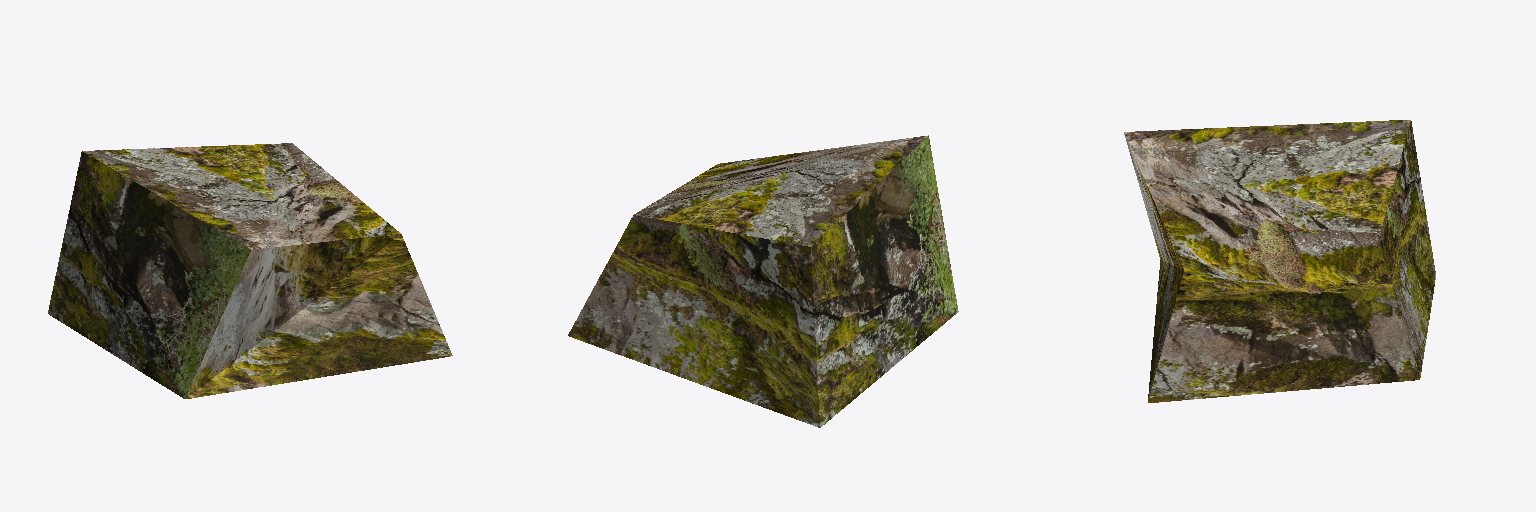
3 renders of one model, left to right at view 1: azimuth 30°, elevation 25°; view 2: azimuth 150°, elevation 25°; view 3: azimuth 270°, elevation 25°, orthographic.
Visible parts, largest first — view 1: 立方体_立方体.002; view 2: 立方体_立方体.002; view 3: 立方体_立方体.002.
Part boxes in pixels (x1,y1,x2,y2): 立方体_立方体.002: (48, 143, 452, 398); 立方体_立方体.002: (568, 135, 958, 427); 立方体_立方体.002: (1124, 120, 1435, 402).
Bounding box in the file's own units: 2.04 × 1.24 × 2.1.
Materials: 1 (1 with a texture image).